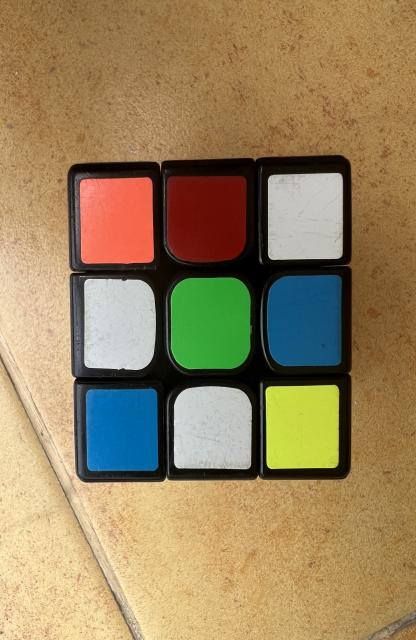Blue: (266, 275, 342, 366), (86, 389, 158, 471)
Green: (170, 278, 251, 370)
Orange: (79, 178, 154, 264)
Red: (167, 176, 247, 262)
White: (173, 386, 252, 470), (268, 172, 343, 260), (84, 279, 156, 370)
Yellow: (265, 385, 339, 469)
